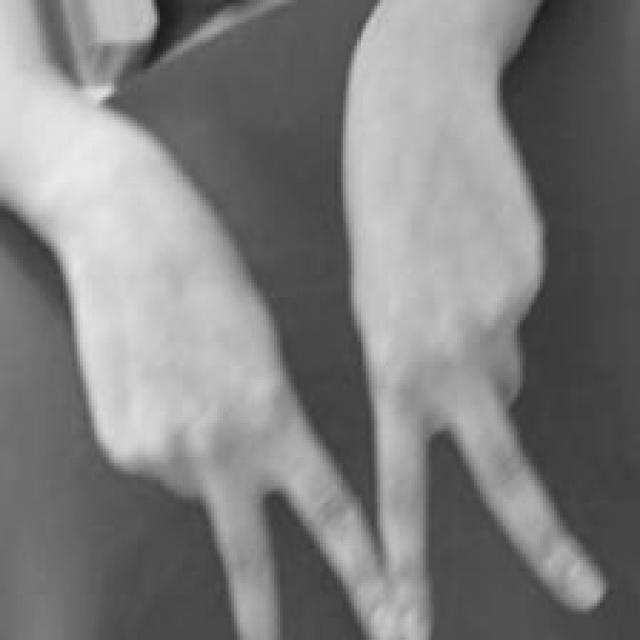M: (61, 138, 611, 640)
